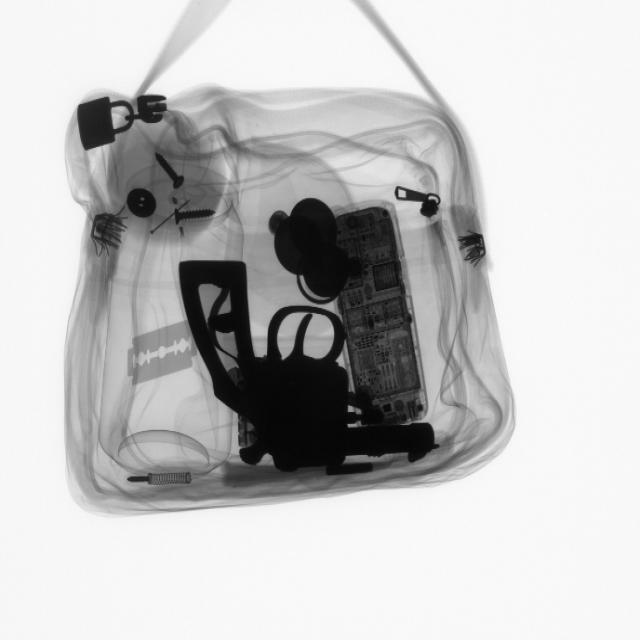BLADE: (126, 314, 200, 386)
GUN: (181, 253, 441, 474)
SCREW: (163, 196, 226, 234), (152, 144, 193, 199)
